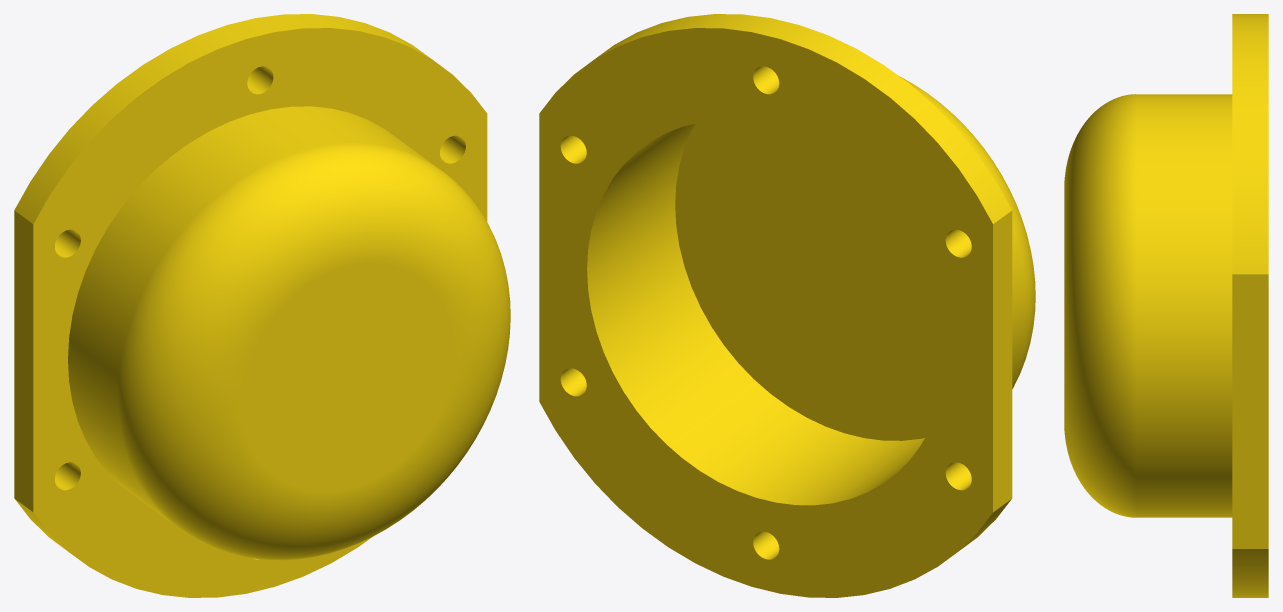
3 renders of one model, left to right at view 1: azimuth 30°, elevation 25°; view 2: azimuth 150°, elevation 25°; view 3: azimuth 270°, elevation 25°, orthographic. The views are drawn at different scales.
Visible parts, largest first — view 1: mesh56822, mesh56820, mesh56823, mesh56821, mesh56811, mesh56813; view 2: mesh56809, mesh56807, mesh56808, mesh56811, mesh56813, mesh56822, mesh56821; view 3: mesh56821, mesh56822, mesh56812, mesh56811, mesh56810.
Boxes of the visible parts, x1,y1,x2,y2 form: mesh56822: (117,143,510,560); mesh56820: (33,28,487,597); mesh56823: (242,263,454,491); mesh56821: (68,106,433,522); mesh56811: (14,14,430,223); mesh56813: (14,210,33,511); mesh56809: (539,28,992,597); mesh56807: (675,120,945,440); mesh56808: (587,124,924,505); mesh56811: (596,14,1011,223); mesh56813: (993,210,1012,512); mesh56822: (899,76,1035,388); mesh56821: (1012,228,1027,382); mesh56821: (1137,94,1232,517); mesh56822: (1064,94,1137,517); mesh56812: (1232,274,1268,548); mesh56811: (1232,14,1268,274); mesh56810: (1232,549,1268,597).
Bounding box in the file's own units: 0.0869 × 0.1015 × 0.0356.
